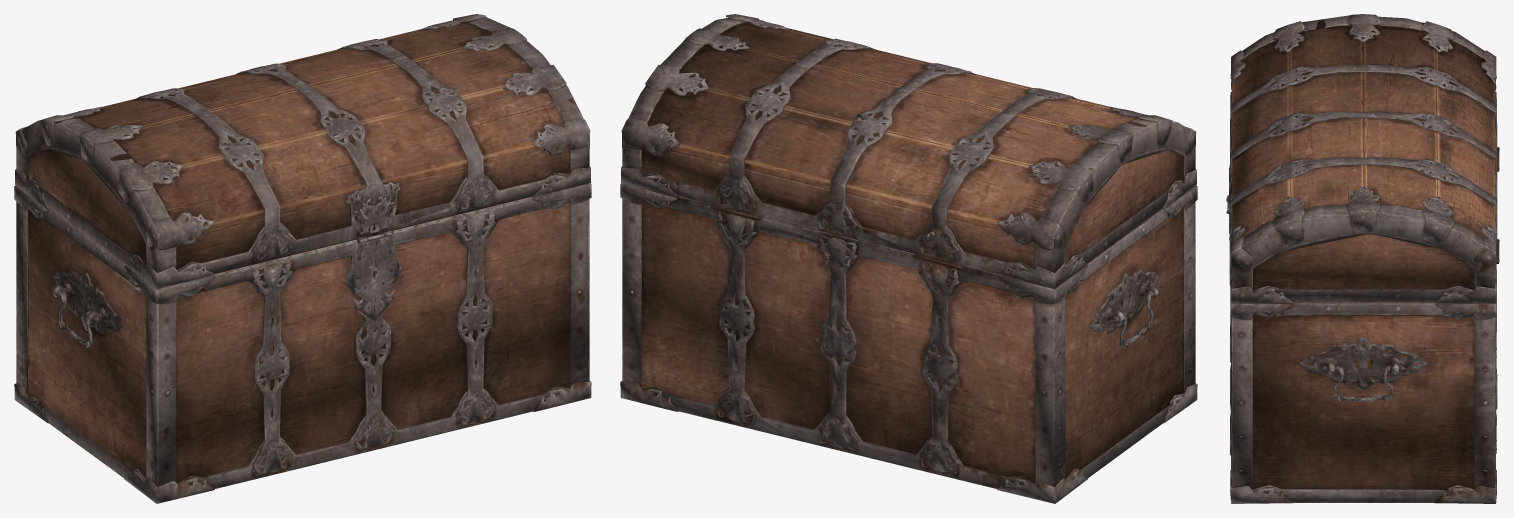
Rendered from treasure_chest.gltf.
The picture shows the model from 3 angles, left to right: view 1: azimuth 30°, elevation 25°; view 2: azimuth 150°, elevation 25°; view 3: azimuth 270°, elevation 25°; orthographic projection. The views are drawn at different scales.
Visible parts, largest first — view 1: treasure_chest__x; view 2: treasure_chest__x; view 3: treasure_chest__x.
Part boxes in pixels (bbox=[...]): treasure_chest__x: bbox=[14, 14, 591, 503]; treasure_chest__x: bbox=[620, 14, 1197, 503]; treasure_chest__x: bbox=[1226, 14, 1499, 503].
Bounding box in the file's own units: 0.9605 × 0.6187 × 0.5232.
Materials: 1 (1 with a texture image).
